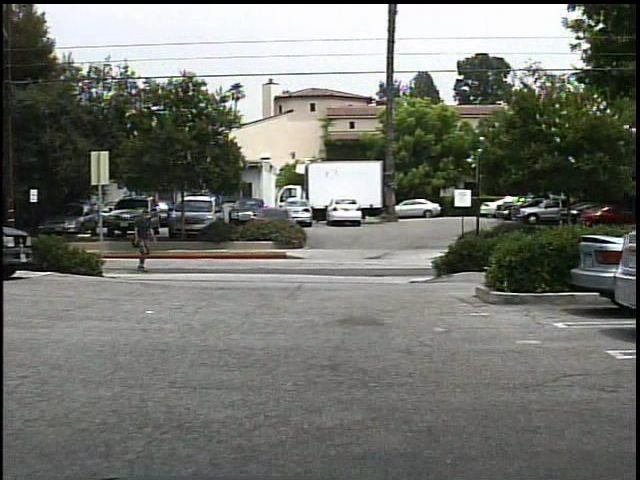person: (127, 209, 161, 277)
